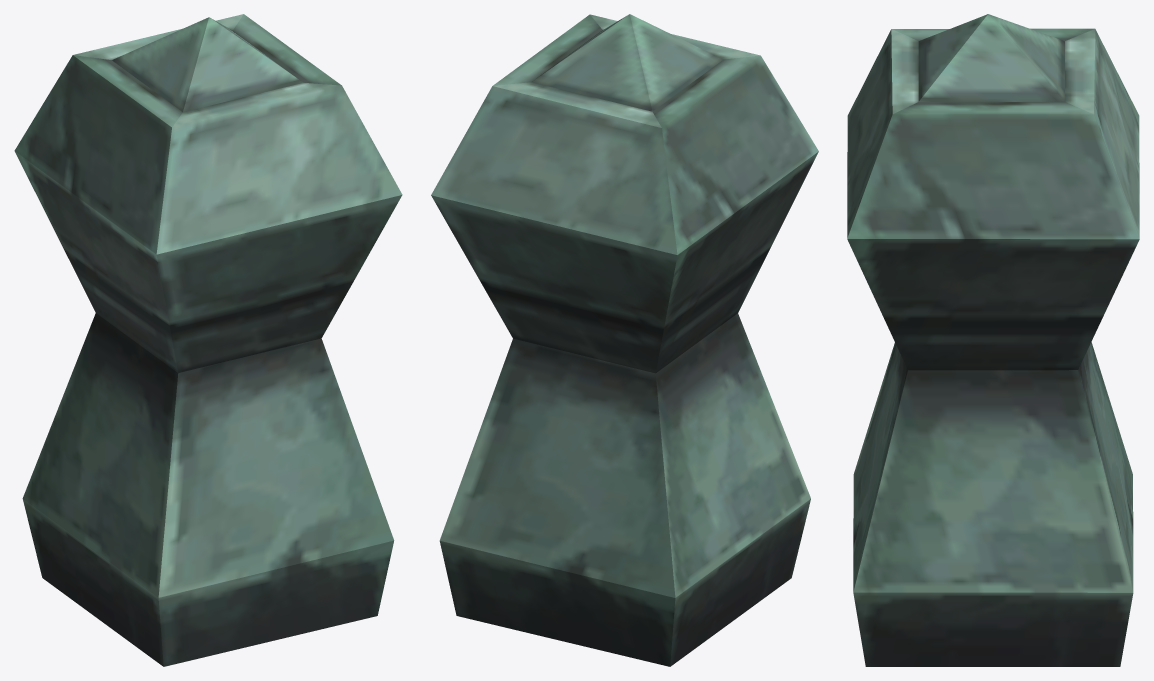
File: crypt_railingpost_01.fbx
The picture shows the model from 3 angles, left to right: view 1: azimuth 30°, elevation 25°; view 2: azimuth 150°, elevation 25°; view 3: azimuth 270°, elevation 25°; orthographic projection. The views are drawn at different scales.
Visible parts, largest first — view 1: obj0.079; view 2: obj0.079; view 3: obj0.079.
Part boxes in pixels (x1,y1,x2,y2): obj0.079: [14, 14, 402, 666]; obj0.079: [431, 14, 818, 666]; obj0.079: [847, 14, 1139, 666].
Bounding box in the file's own units: 0.8877 × 2 × 0.888.
